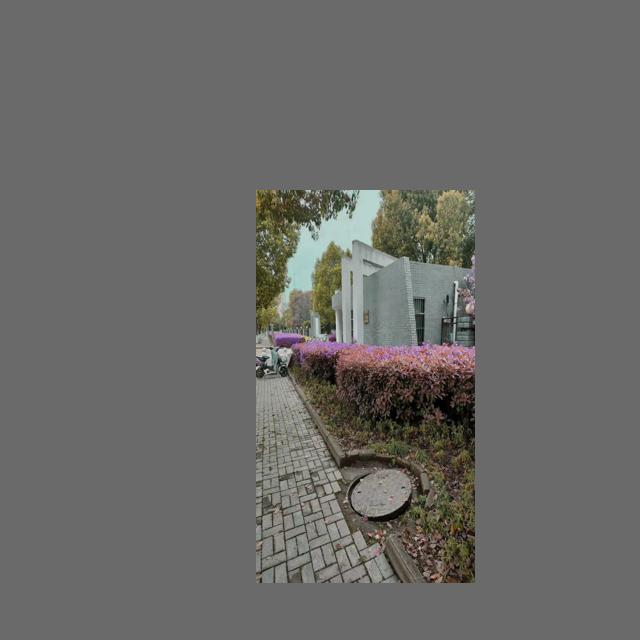uncovered: (346, 468, 413, 524)
